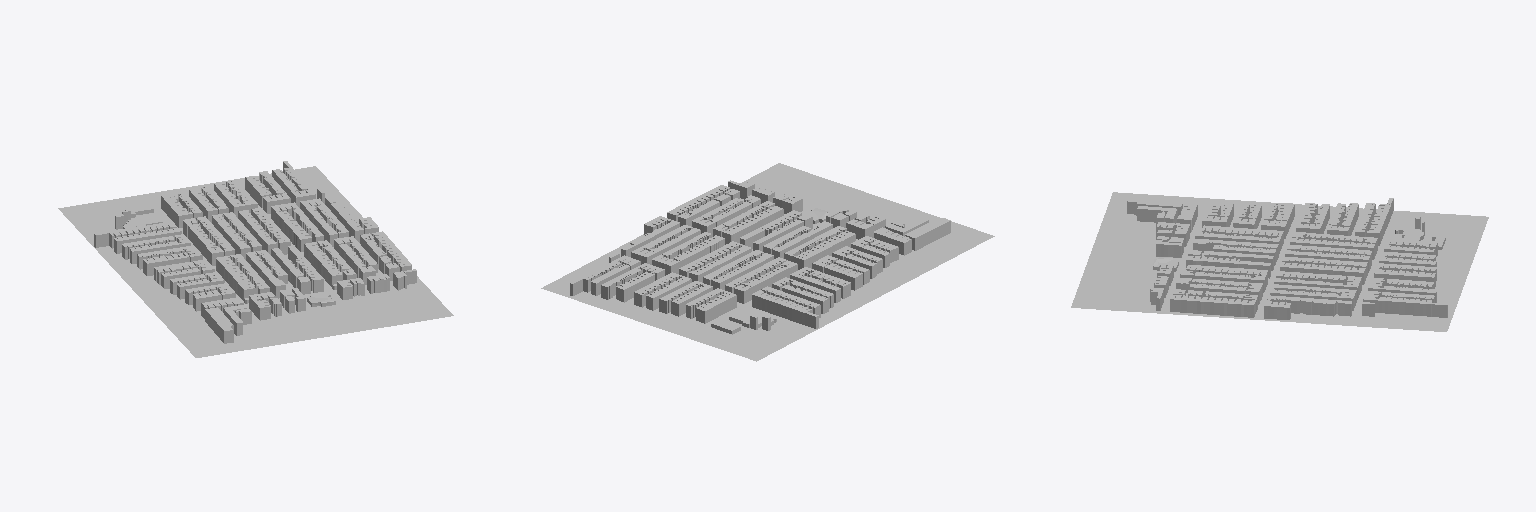
3 renders of one model, left to right at view 1: azimuth 30°, elevation 25°; view 2: azimuth 150°, elevation 25°; view 3: azimuth 270°, elevation 25°, orthographic.
Visible parts, largest first — view 1: Areas_Material.001, Plane_Material.003, Areas.002_Material.001; view 2: Areas_Material.001, Plane_Material.003, Areas.002_Material.001; view 3: Areas_Material.001, Plane_Material.003, Areas.002_Material.001.
Part boxes in pixels (x1,y1,x2,y2): Areas_Material.001: (79,161,416,335); Plane_Material.003: (58,166,453,357); Areas.002_Material.001: (205,307,233,343); Areas_Material.001: (570,180,928,349); Plane_Material.003: (541,163,994,361); Areas.002_Material.001: (905,218,950,250); Areas_Material.001: (1137,198,1451,319); Plane_Material.003: (1071,192,1488,331); Areas.002_Material.001: (1127,197,1182,215).
Bounding box in the file's own units: 479 × 20 × 604.